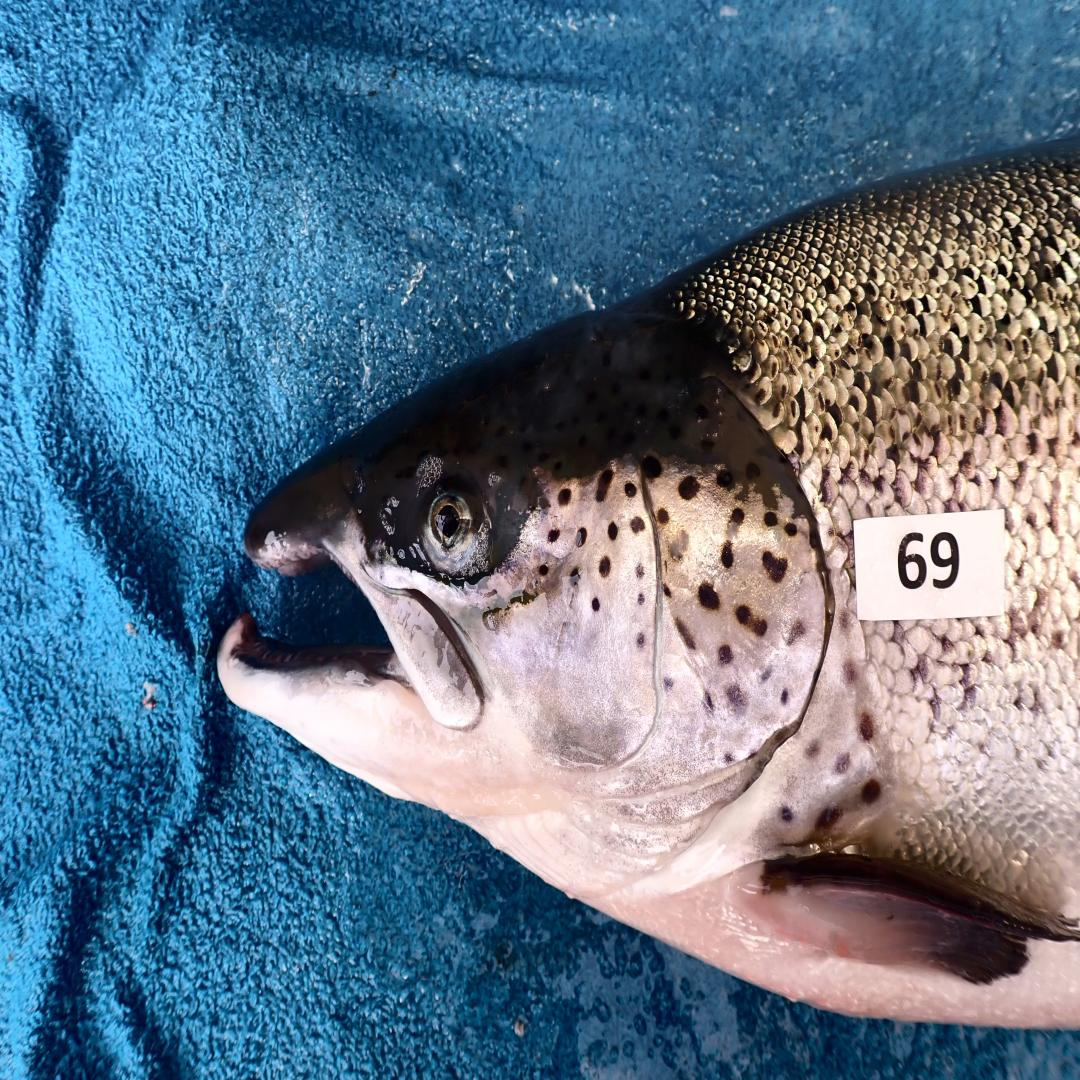spot: (734, 605, 768, 636), (761, 551, 787, 582), (675, 616, 696, 650), (726, 683, 747, 716), (595, 468, 614, 503), (677, 475, 700, 501), (670, 531, 689, 562), (698, 582, 719, 610), (727, 508, 744, 541), (641, 456, 662, 480), (787, 621, 806, 646), (720, 540, 733, 569), (717, 644, 734, 664), (717, 469, 733, 487), (599, 556, 611, 578), (703, 692, 715, 713), (558, 488, 571, 507), (575, 528, 587, 547), (631, 518, 645, 534), (569, 568, 580, 587), (764, 512, 778, 526), (548, 528, 560, 544), (657, 509, 669, 525), (625, 482, 636, 498), (608, 523, 618, 540), (784, 523, 797, 536), (761, 668, 772, 681), (662, 583, 672, 597), (780, 688, 788, 705), (635, 564, 644, 579), (663, 678, 673, 691), (636, 634, 645, 648), (723, 753, 734, 763), (539, 566, 549, 576), (592, 598, 599, 612), (638, 595, 645, 605)
